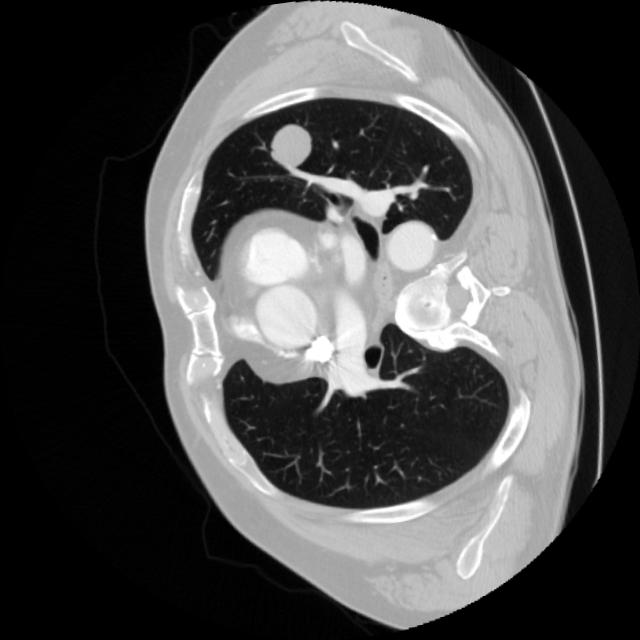nodule: (240, 96, 342, 198)
